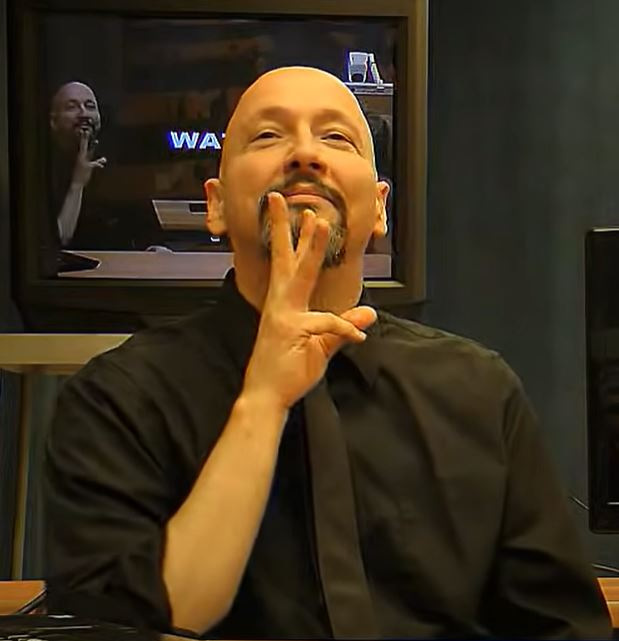Water: (220, 183, 407, 415)
